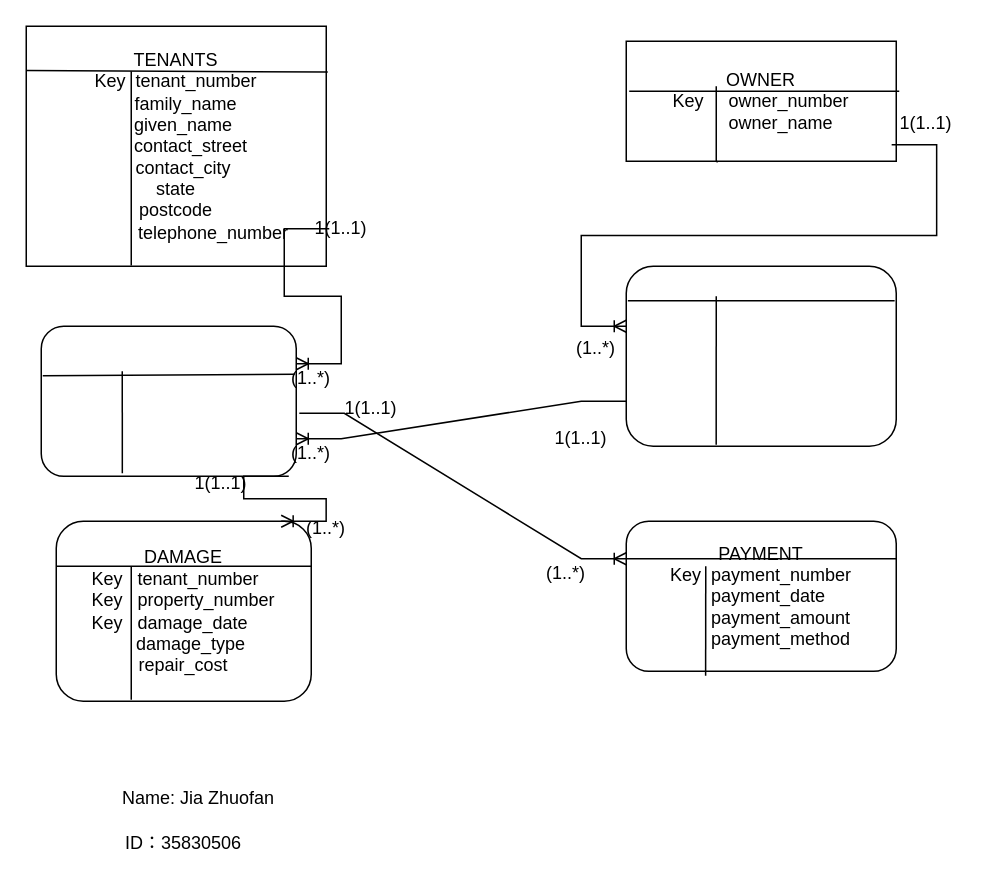
This 998x893 diagram has some shape labels left out. Here are the shapes that lost their labels. From the top down, the box of each, then its label:
(625, 265, 896, 446): PROPERTY Key property_number property_address property_value lease_period bond
(40, 325, 296, 476): RENTAL Key tenant_number Key property_number start_date edn_date
